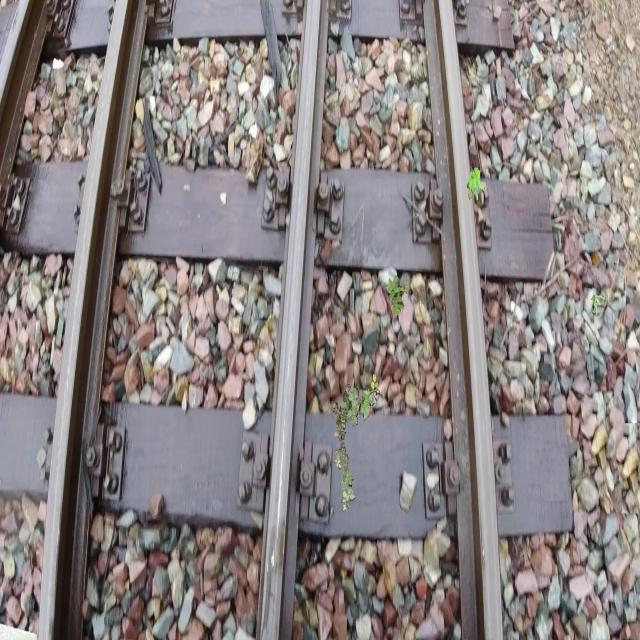Plant: (332, 374, 380, 512), (386, 275, 410, 316), (467, 167, 488, 200), (591, 295, 605, 316)
